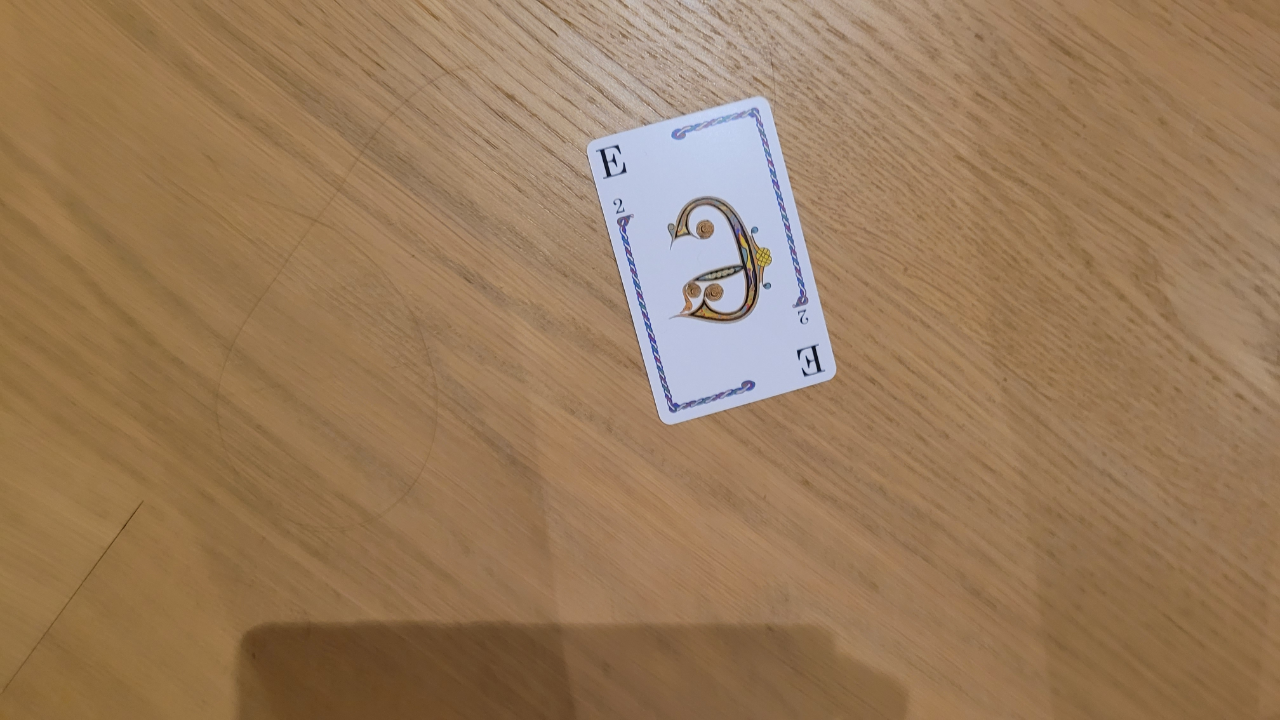quiddler_card: (575, 90, 875, 446)
